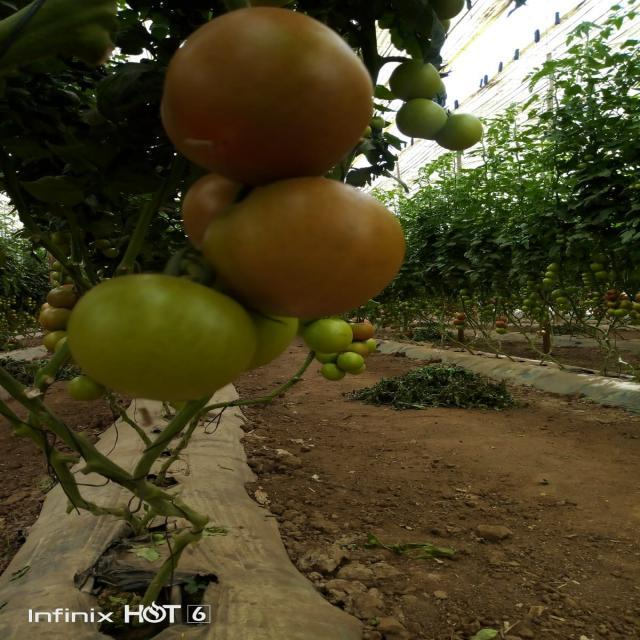Unripe Tomato: (152, 6, 384, 174), (29, 272, 286, 410), (186, 182, 402, 314), (453, 110, 488, 162)
